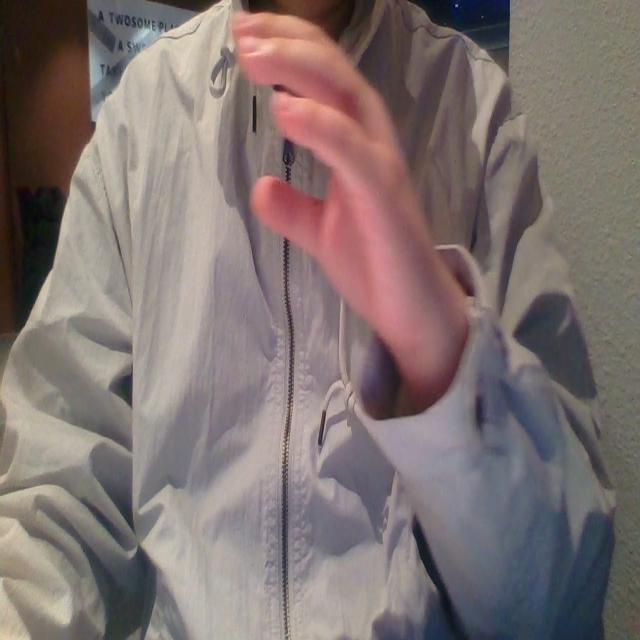hand: (224, 9, 442, 375)
